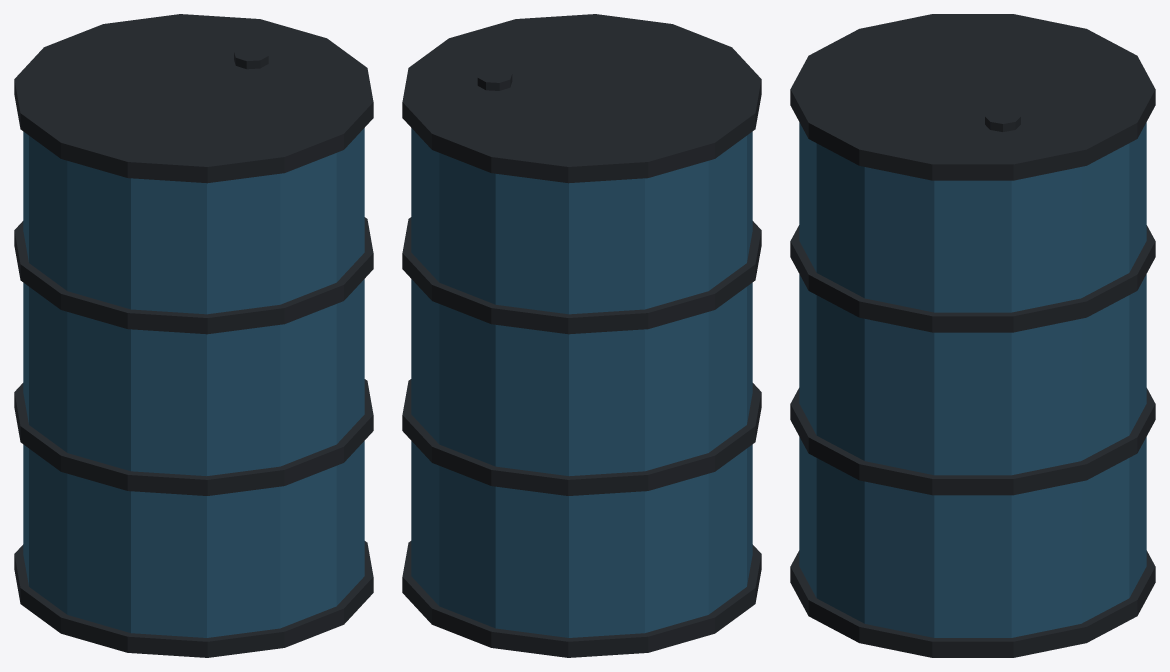
Rendered from barrel.glb.
3 renders of one model, left to right at view 1: azimuth 30°, elevation 25°; view 2: azimuth 150°, elevation 25°; view 3: azimuth 270°, elevation 25°, orthographic.
Parts seen in each view (by area): view 1: barrel; view 2: barrel; view 3: barrel.
Part boxes in pixels (x1,y1,x2,y2): barrel: [14, 14, 373, 657]; barrel: [402, 14, 761, 657]; barrel: [790, 14, 1155, 657].
Size of the model in its own units: 0.5947 by 0.925 by 0.61.
